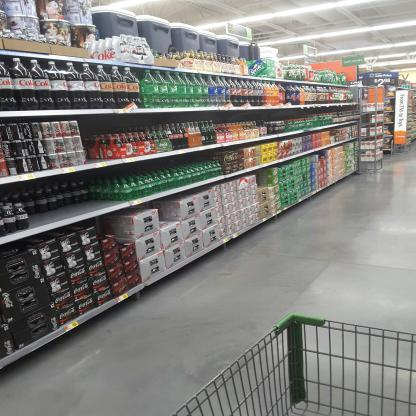Void: (30, 182, 108, 208), (84, 114, 152, 130), (98, 219, 126, 232), (159, 207, 177, 220), (257, 174, 270, 185)
